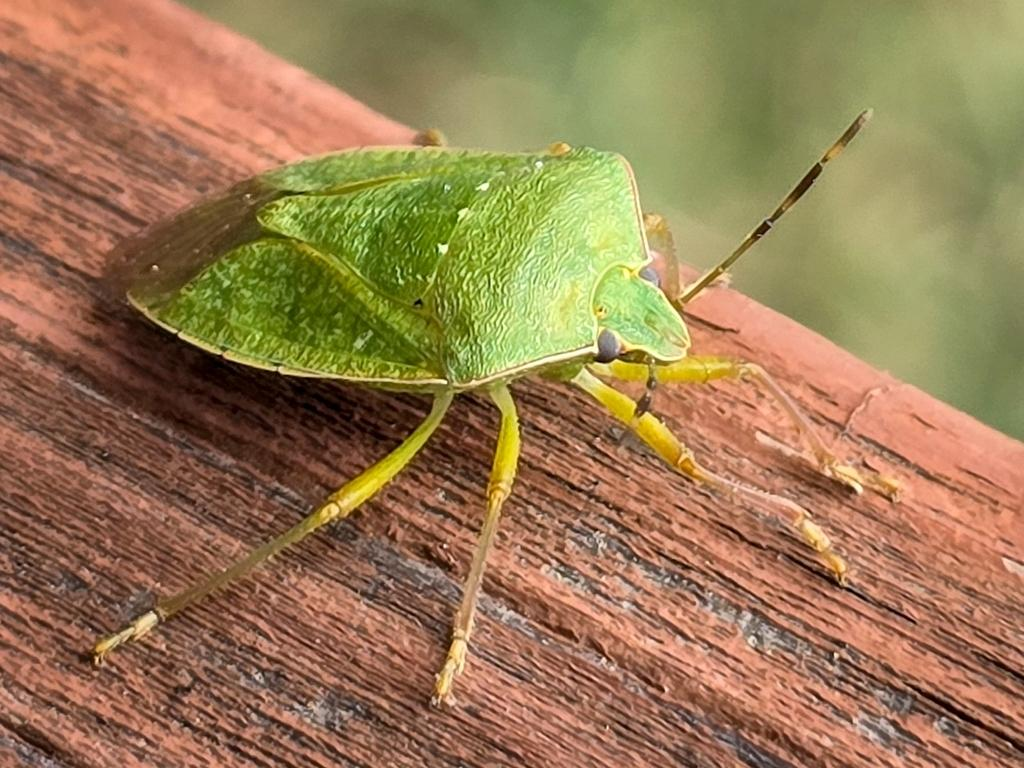stink_bugs: (11, 0, 942, 768)
